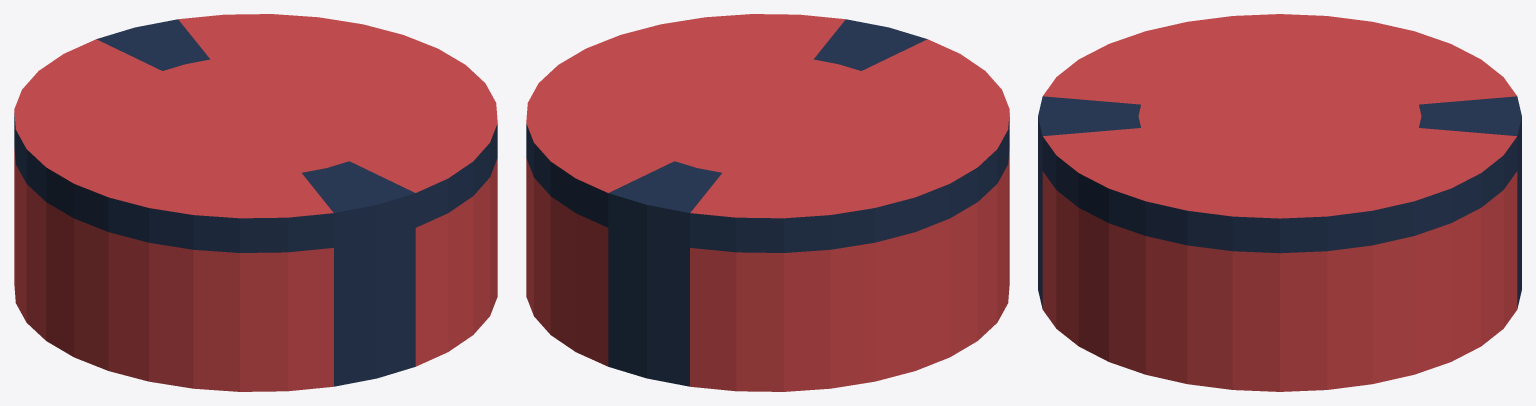
Rendered from cap.gltf.
3 renders of one model, left to right at view 1: azimuth 30°, elevation 25°; view 2: azimuth 150°, elevation 25°; view 3: azimuth 270°, elevation 25°, orthographic.
Visible parts, largest first — view 1: BottleCap; view 2: BottleCap; view 3: BottleCap.
Boxes of the visible parts, x1=… form: BottleCap: x1=14, y1=14, x2=497, y2=391; BottleCap: x1=526, y1=14, x2=1009, y2=391; BottleCap: x1=1038, y1=14, x2=1521, y2=391.
Bounding box in the file's own units: 0.4924 × 0.1947 × 0.4924.
Materials: 1 (1 with a texture image).
